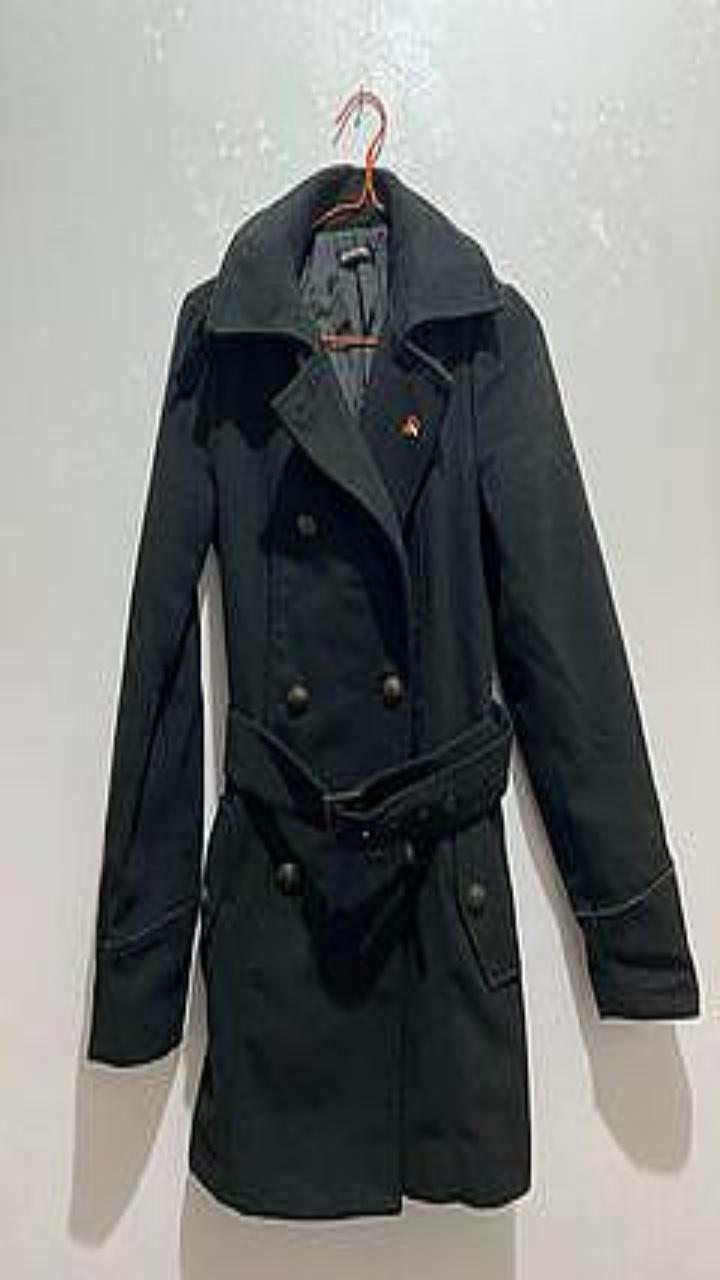Coat: (88, 164, 699, 1217)
